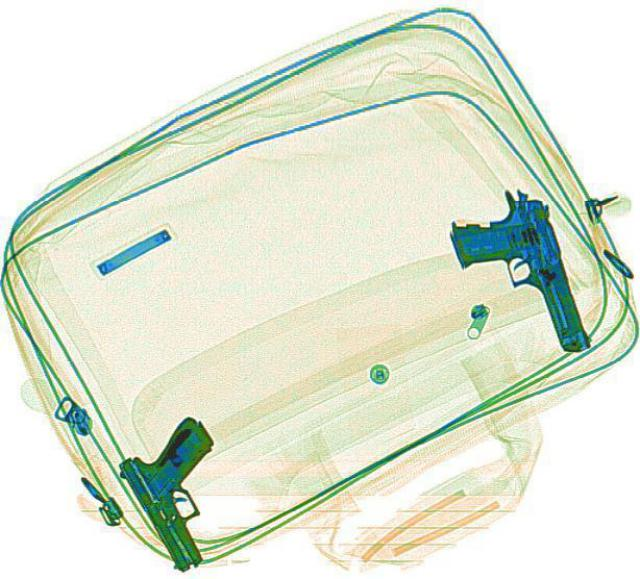Gun: (438, 180, 590, 367), (102, 412, 268, 573)
